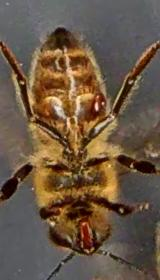varroa_mite: (84, 80, 110, 125)
